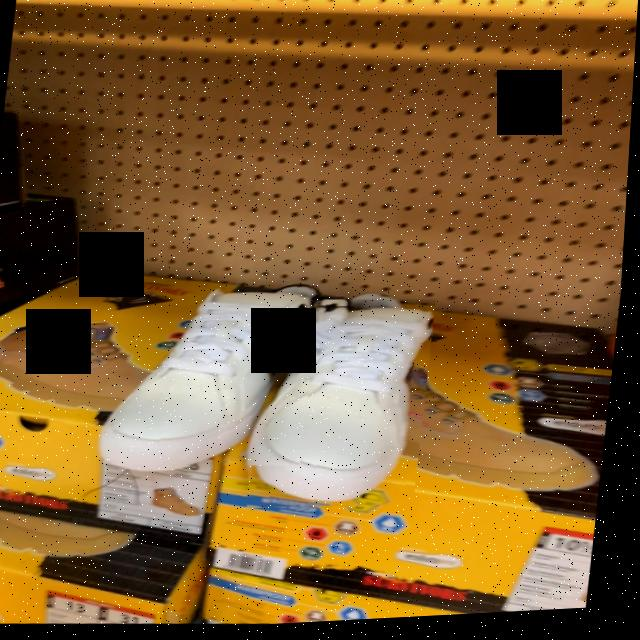shoe: (99, 285, 322, 469), (254, 304, 437, 511)
